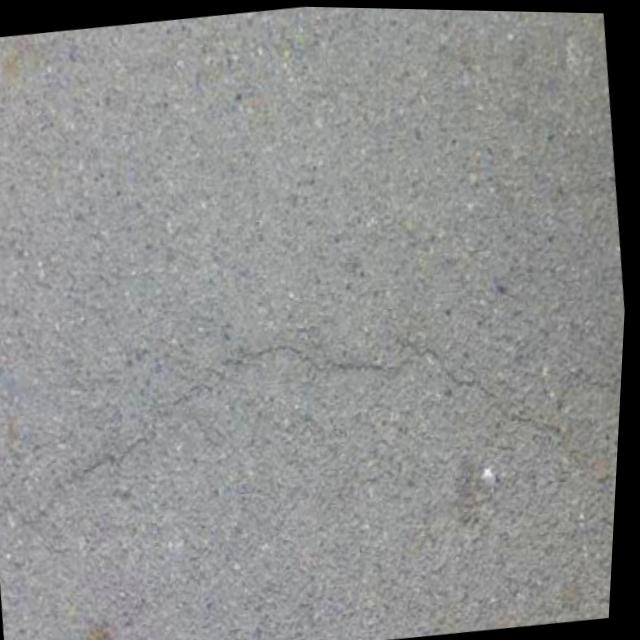Crack: (9, 268, 590, 537)
